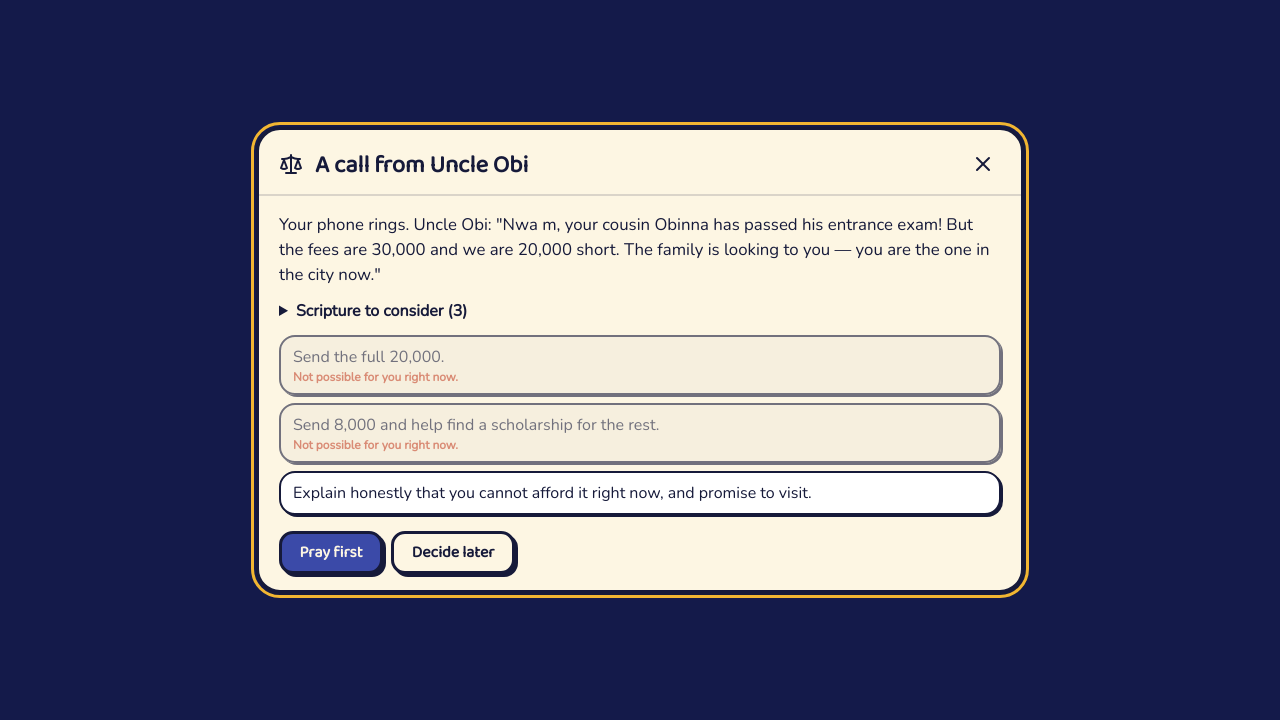
it: in-game panels › decision panel locks unaffordable choices and shows the outcome after choosing
This screenshot has width=1280, height=720.
expect the button "Send the full 20,000. Not possible for you right now." is disabled: met, box [279,335,1001,395]
Click the button "Explain honestly".
click(640, 493)  # box [279,471,1001,515]
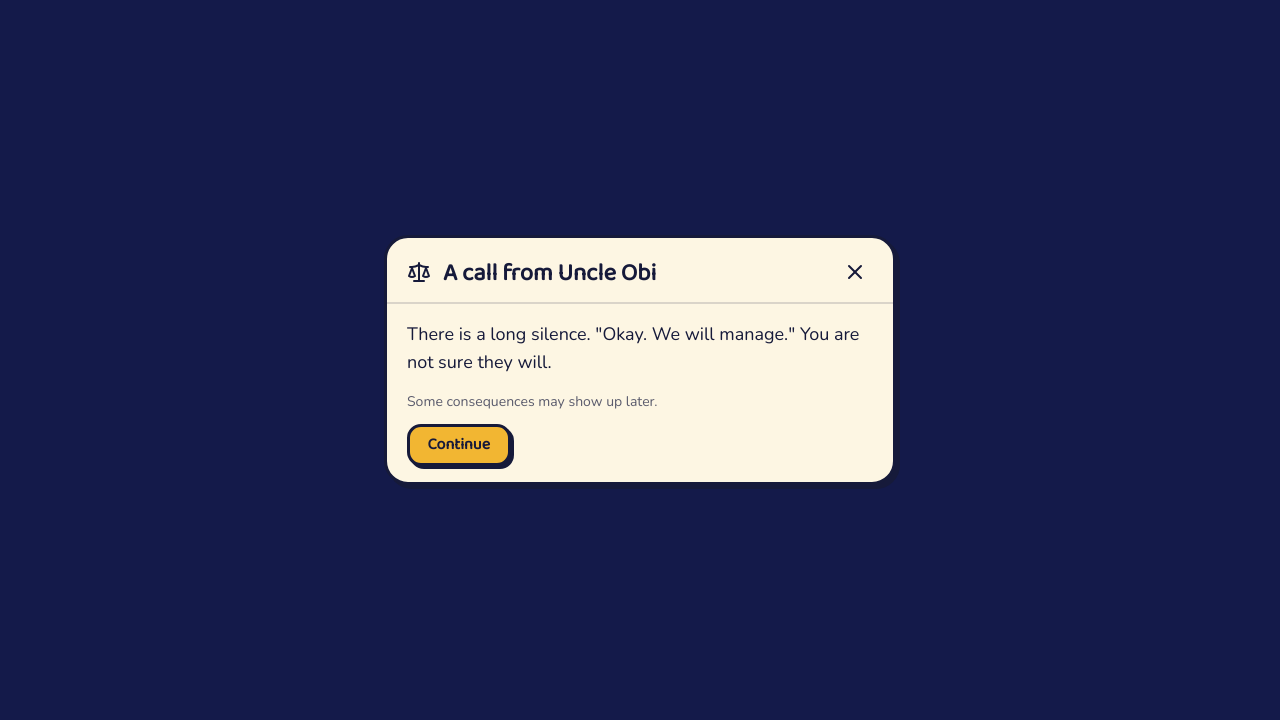
expect the text "There is a long silence" is shown: met, box [407,322,859,374]
